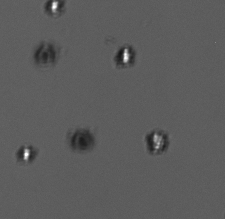Dead Cell: (70, 130, 96, 153), (34, 44, 57, 67)
Living Cell: (147, 131, 168, 155), (115, 46, 134, 66), (45, 1, 66, 17), (17, 146, 37, 162)
